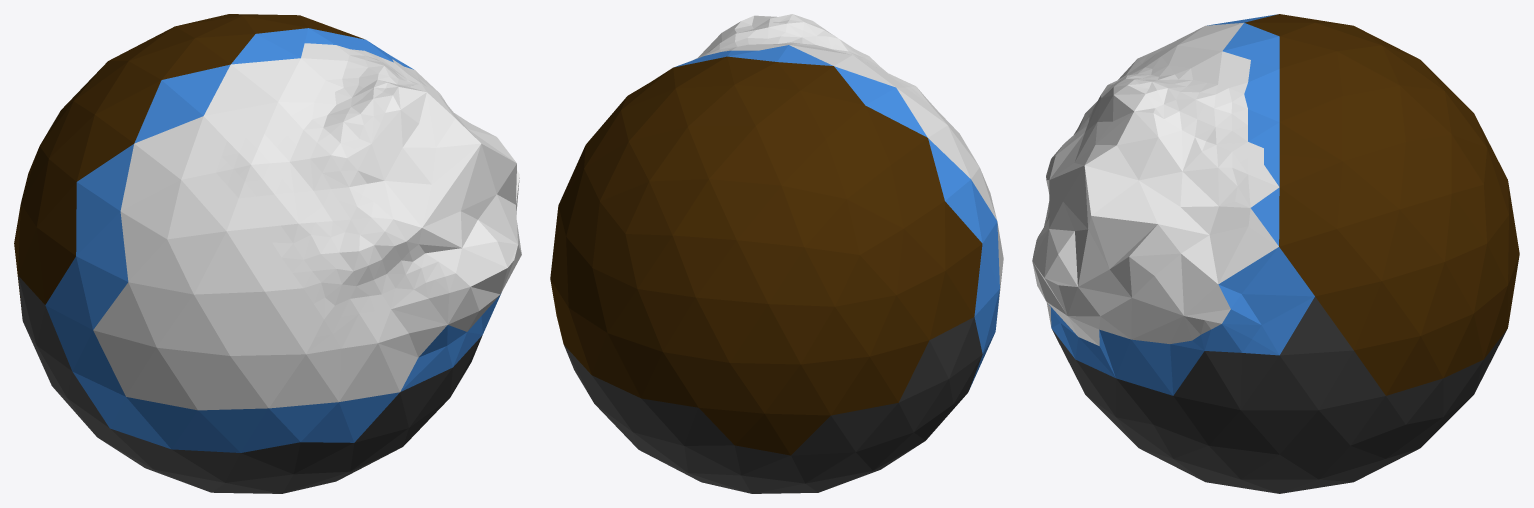
Rendered from planet 1o2x3x.fbx.
3 renders of one model, left to right at view 1: azimuth 30°, elevation 25°; view 2: azimuth 150°, elevation 25°; view 3: azimuth 270°, elevation 25°, orthographic. The views are drawn at different scales.
Visible parts, largest first — view 1: Icosphere.001; view 2: Icosphere.001; view 3: Icosphere.001.
Part boxes in pixels (bbox=[...]): Icosphere.001: bbox=[14, 14, 521, 493]; Icosphere.001: bbox=[550, 14, 1003, 493]; Icosphere.001: bbox=[1032, 14, 1519, 493].
Size of the model in its own units: 2000 by 2000 by 2031.
